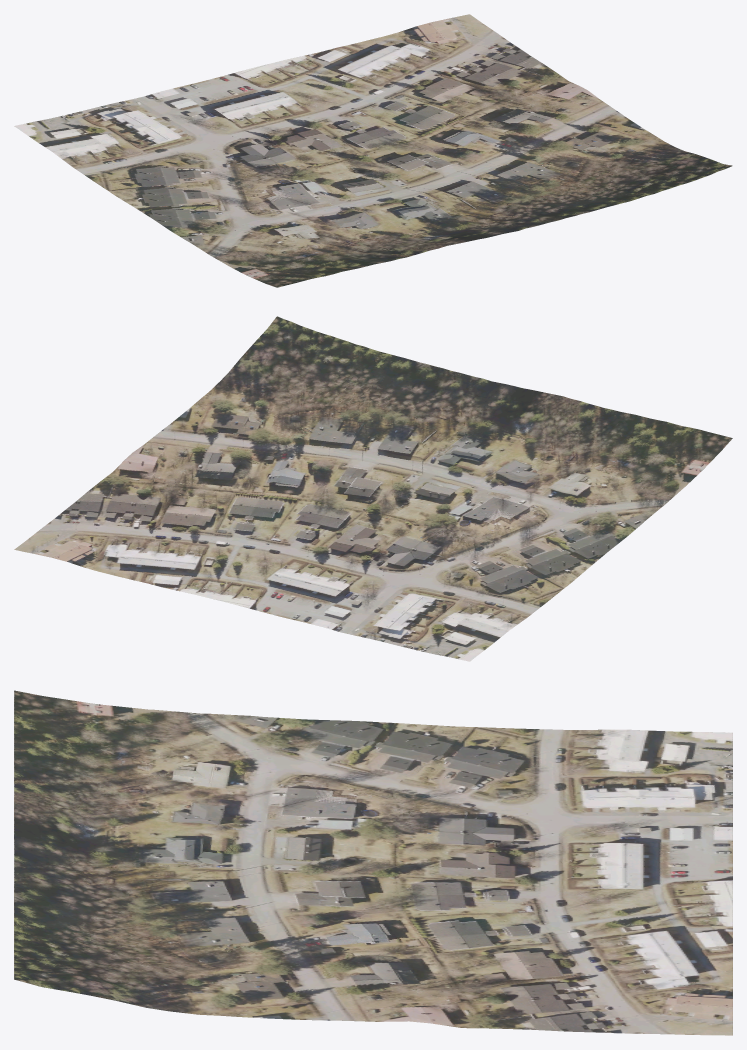
Rendered from CM_Terrain_24490458_6817951.fbx.
The picture shows the model from 3 angles, top to bottom: view 1: azimuth 30°, elevation 25°; view 2: azimuth 150°, elevation 25°; view 3: azimuth 270°, elevation 25°; orthographic projection. The views are drawn at different scales.
Visible parts, largest first — view 1: CM_Terrain_24490458_6817951_LOD0; view 2: CM_Terrain_24490458_6817951_LOD0; view 3: CM_Terrain_24490458_6817951_LOD0.
Part boxes in pixels (x1,y1,x2,y2): CM_Terrain_24490458_6817951_LOD0: (14,14,732,287); CM_Terrain_24490458_6817951_LOD0: (14,316,732,661); CM_Terrain_24490458_6817951_LOD0: (14,690,732,1035).
Size of what is drawn, in the model's own units: 205 by 18.8 by 205.
